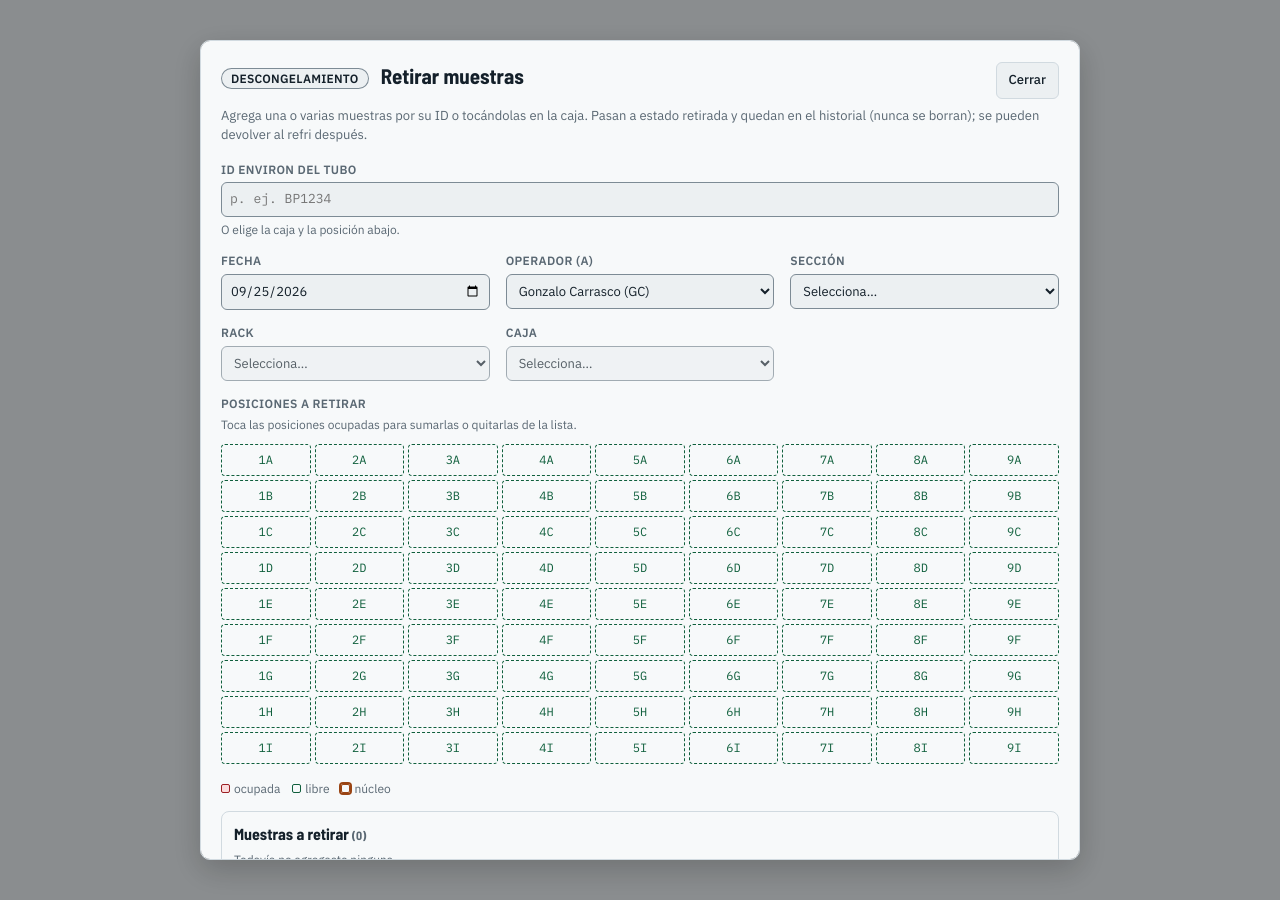
ThawForm · partir por el ID del tubo (F2) › con varias muestras activas del mismo ID las lista con su ubicación para elegir
Type "BP009" into the field labelled "ID Environ del tubo" at (640, 199), box [221,182,1059,217]
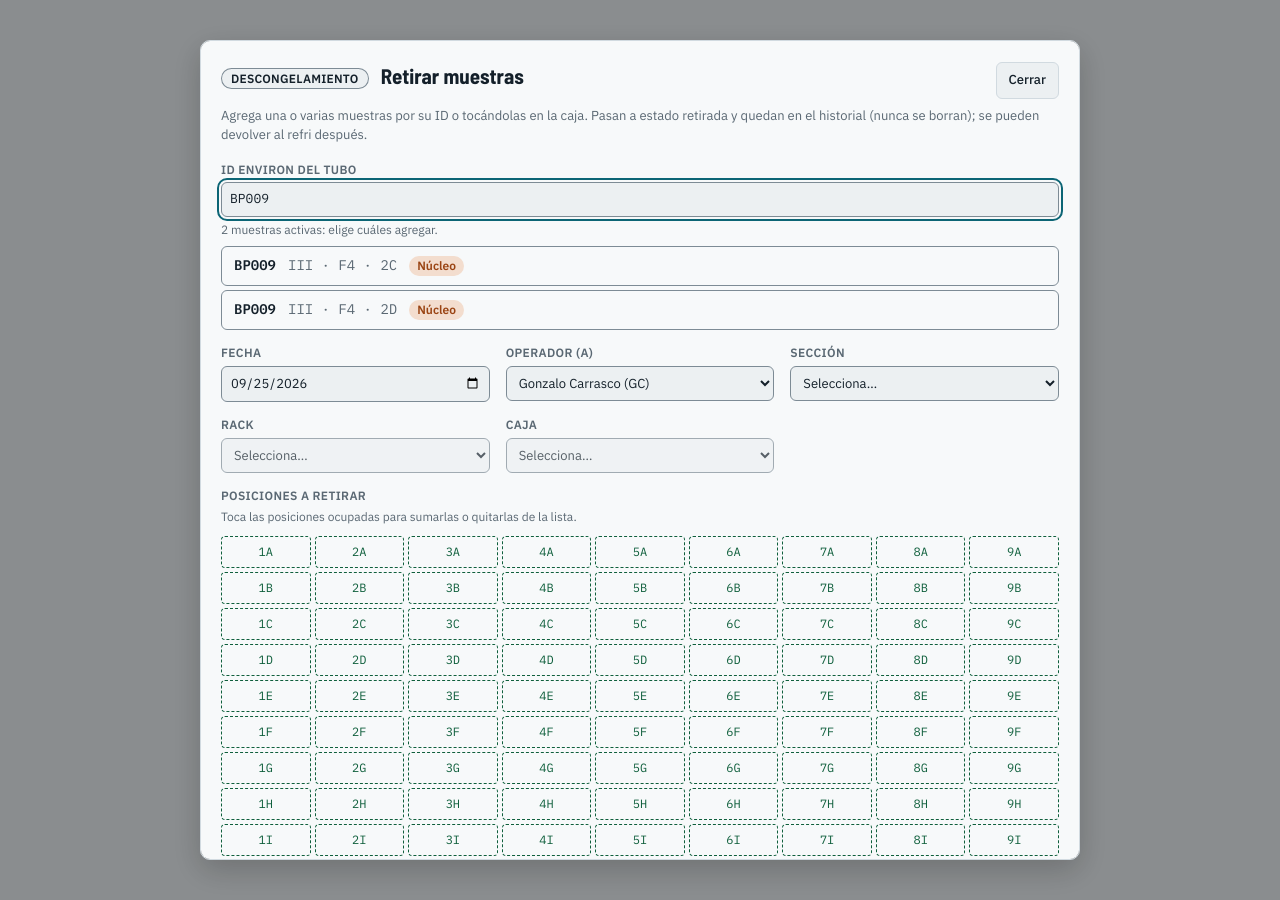
Result: the list named "muestras con ese id" shows "III · F4 · 2C" at [221,246,1059,286]
Result: the list named "muestras con ese id" shows "III · F4 · 2D"
Click the button "BP009 III · F4 · 2D Núcleo" at (255, 309), box [221,290,1059,330]
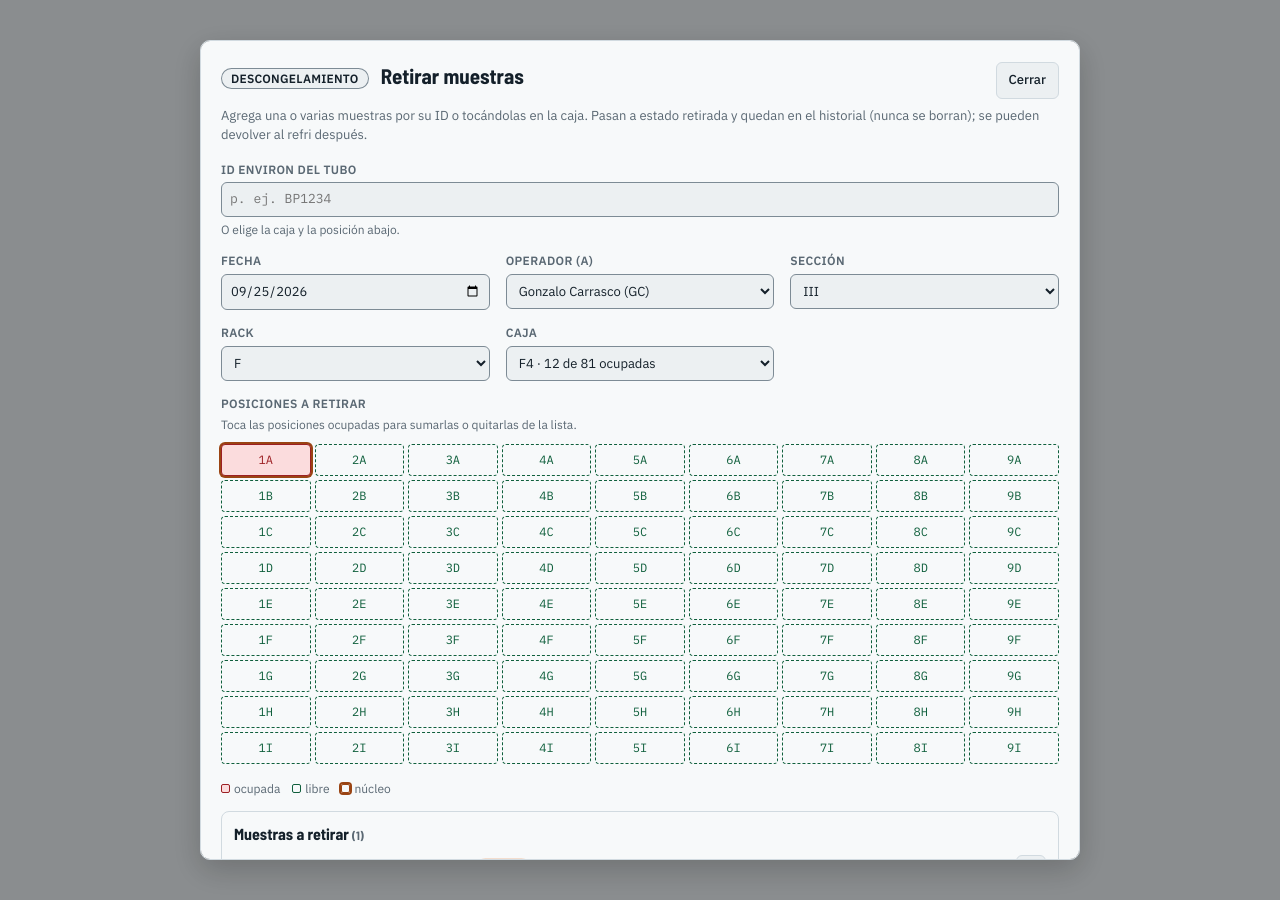
Result: the dropdown labelled "Caja" shows "F4 · 12 de 81 ocupadas" at [506,346,774,381]
